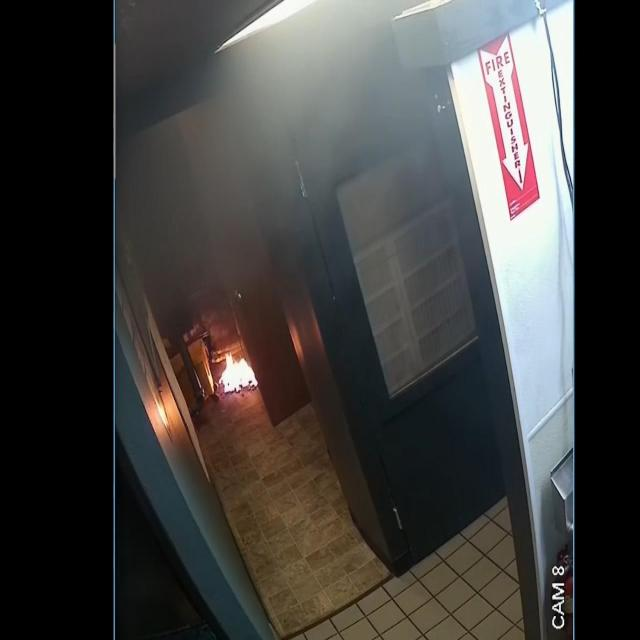fire: (218, 352, 258, 392)
